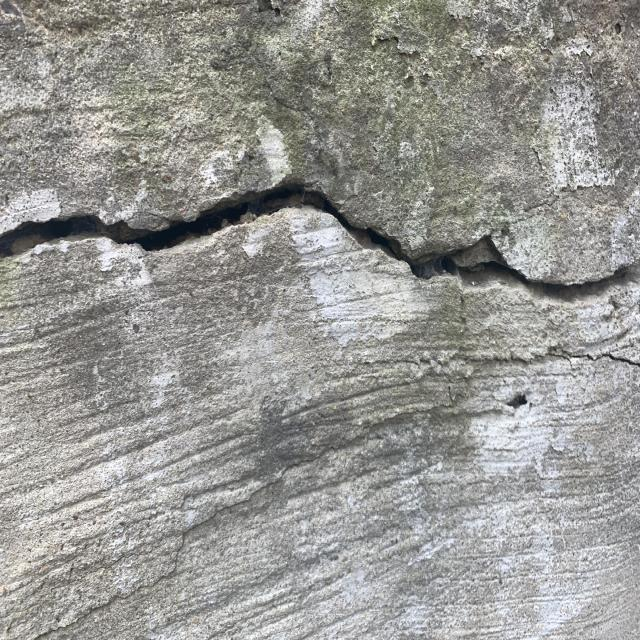SurfaceCrack: (1, 152, 640, 349)
